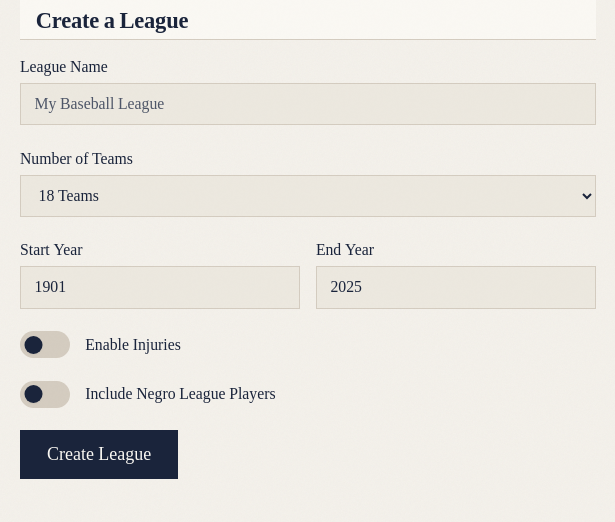
LeagueConfigPage › shows validation error for short league name
Type "AB" into the field labelled "League Name" at (308, 104), box [20, 83, 596, 125]
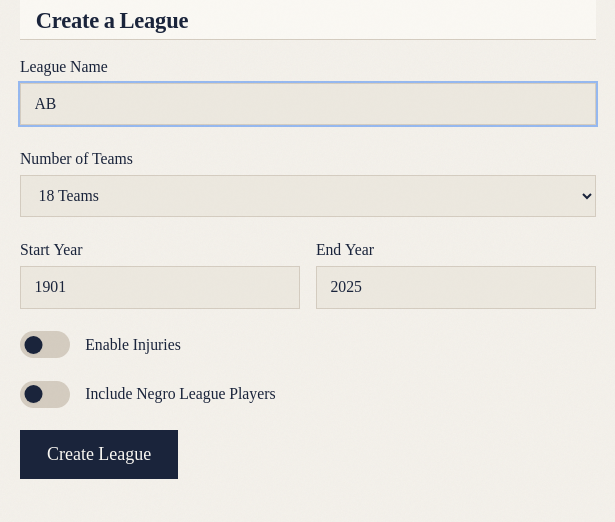
Click the button "Create League" at (99, 455), box [20, 430, 178, 479]
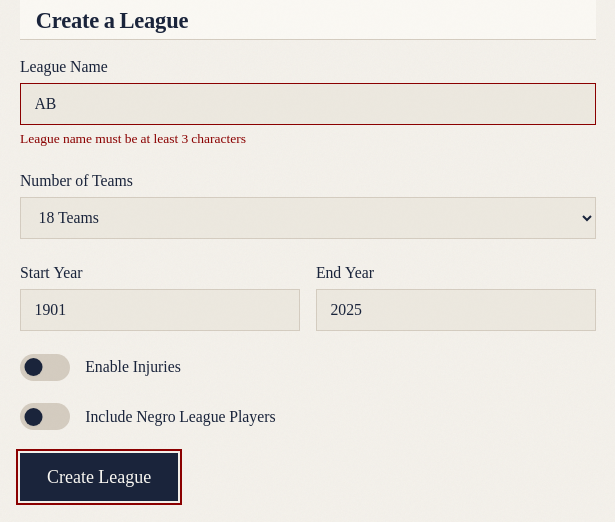
Expected: the text "League name must be at least 3 characters" is shown, [20, 131, 246, 147]
